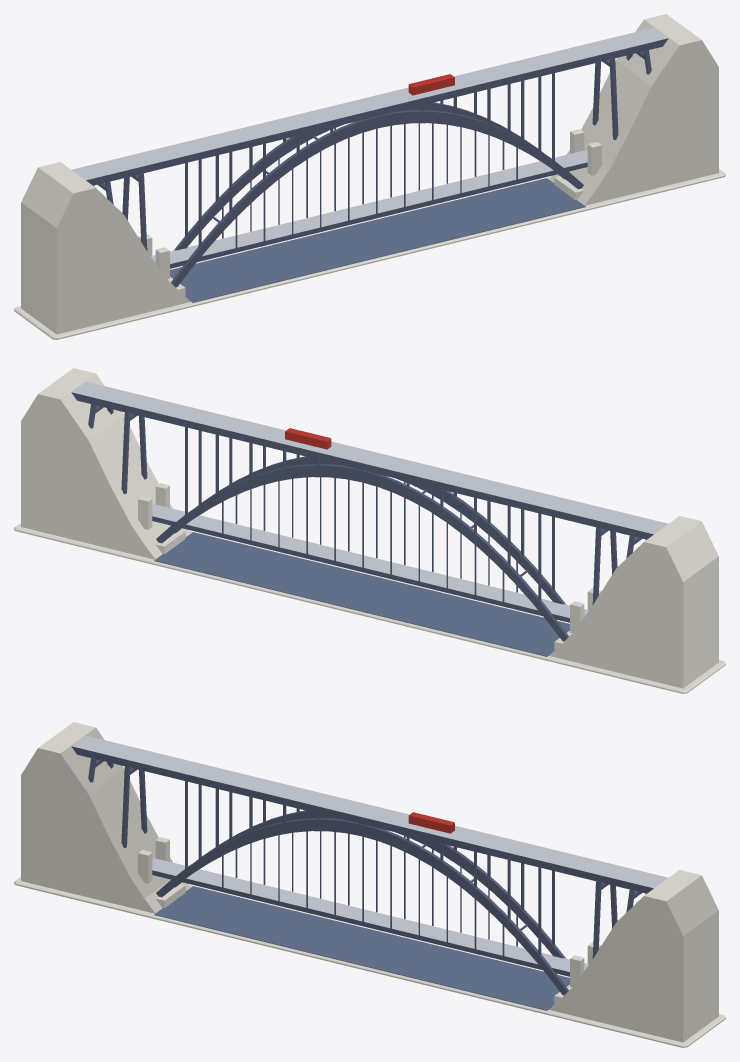
Rendered from porto.glb.
3 renders of one model, top to bottom at view 1: azimuth 30°, elevation 25°; view 2: azimuth 150°, elevation 25°; view 3: azimuth 330°, elevation 25°, orthographic.
Visible parts, largest first — view 1: model; view 2: model; view 3: model.
Boxes of the visible parts, box(x1,y1,x2,y2) form: model: box(14, 14, 725, 339); model: box(14, 368, 725, 693); model: box(14, 722, 725, 1047).
Bounding box in the file's own units: 240 × 50.4 × 26.
